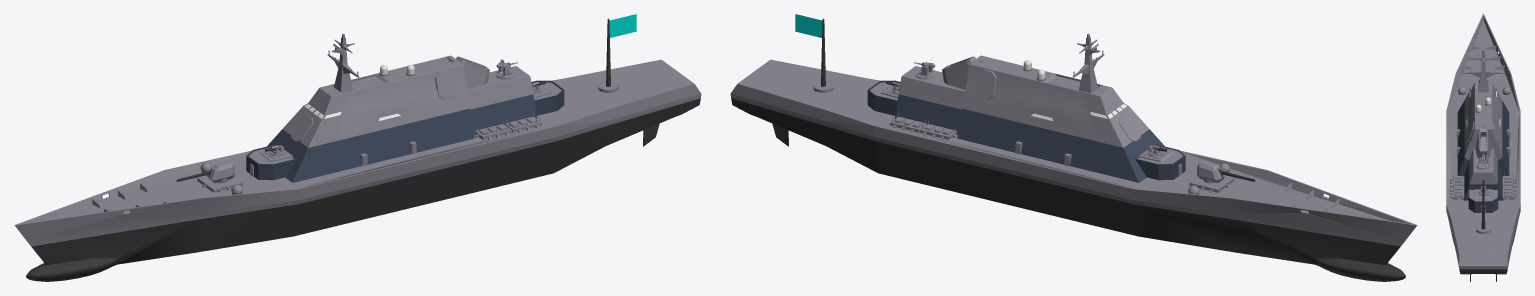
File: kecil .fbx
3 renders of one model, left to right at view 1: azimuth 30°, elevation 25°; view 2: azimuth 150°, elevation 25°; view 3: azimuth 270°, elevation 25°, orthographic. The views are drawn at different scales.
Visible parts, largest first — view 1: polySurface1883, polySurface1883.001, Plane.001, Cylinder.006; view 2: polySurface1883, polySurface1883.001, Plane.001, Cylinder.006; view 3: polySurface1883, Cylinder.006, polySurface1883.002, Sphere.001.
Boxes of the visible parts, x1=… form: polySurface1883: x1=14, y1=33, x2=701, y2=281; polySurface1883.001: x1=176, y1=160, x2=234, y2=183; Plane.001: x1=609, y1=14, x2=636, y2=37; Cylinder.006: x1=598, y1=18, x2=618, y2=92; polySurface1883: x1=730, y1=33, x2=1417, y2=281; polySurface1883.001: x1=1197, y1=160, x2=1255, y2=183; Plane.001: x1=795, y1=14, x2=822, y2=37; Cylinder.006: x1=813, y1=18, x2=833, y2=92; polySurface1883: x1=1446, y1=14, x2=1520, y2=281; Cylinder.006: x1=1476, y1=180, x2=1490, y2=233; polySurface1883.002: x1=1476, y1=152, x2=1490, y2=169; Sphere.001: x1=1502, y1=87, x2=1510, y2=95.
Bounding box in the file's own units: 36.43 × 9.34 × 4.83.
